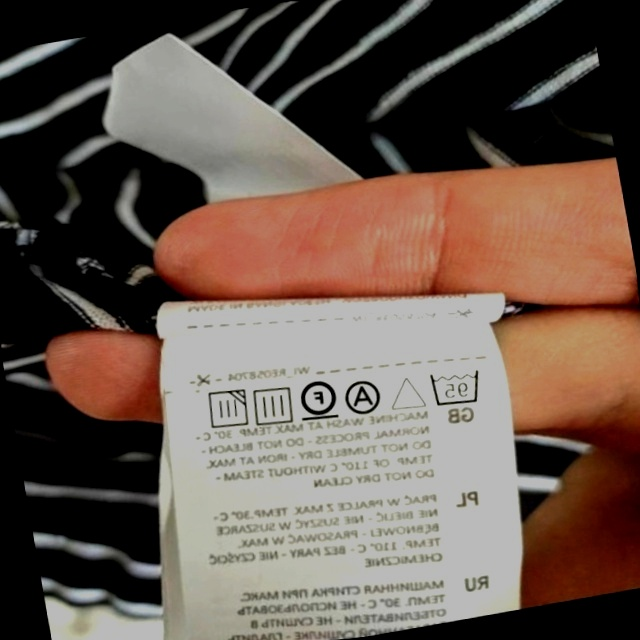95C: (423, 362, 487, 413)
bleach: (386, 368, 429, 416)
drip_dry: (247, 379, 299, 430)
drip_dry_in_shade: (199, 383, 252, 436)
dry_clean: (341, 374, 387, 419)
dry_clean_petrol_only: (294, 372, 342, 425)
